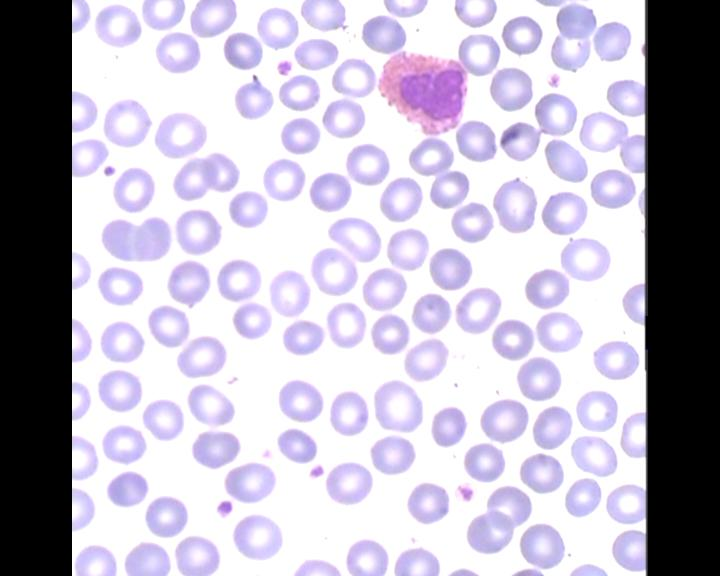eosi: (372, 46, 475, 142)
